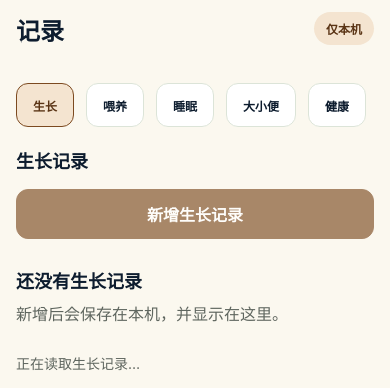
switching domains starts only the selected-domain read and ignores the older result
This screenshot has width=390, height=388.
Step 1. Click the tab "喂养" → (115,105), box [86,83,144,127]
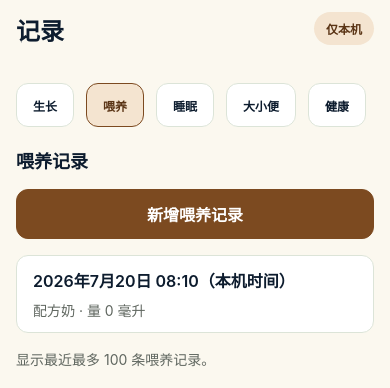
Expected: the text "配方奶 · 量 0 毫升" is shown, [33,302,146,319]
Expected: the heading "喂养记录" is shown, [16,151,88,172]
